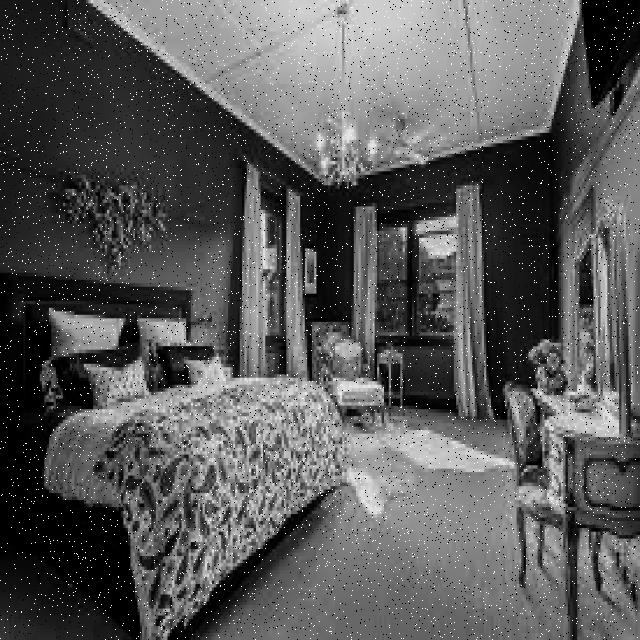bed: (14, 312, 333, 582)
